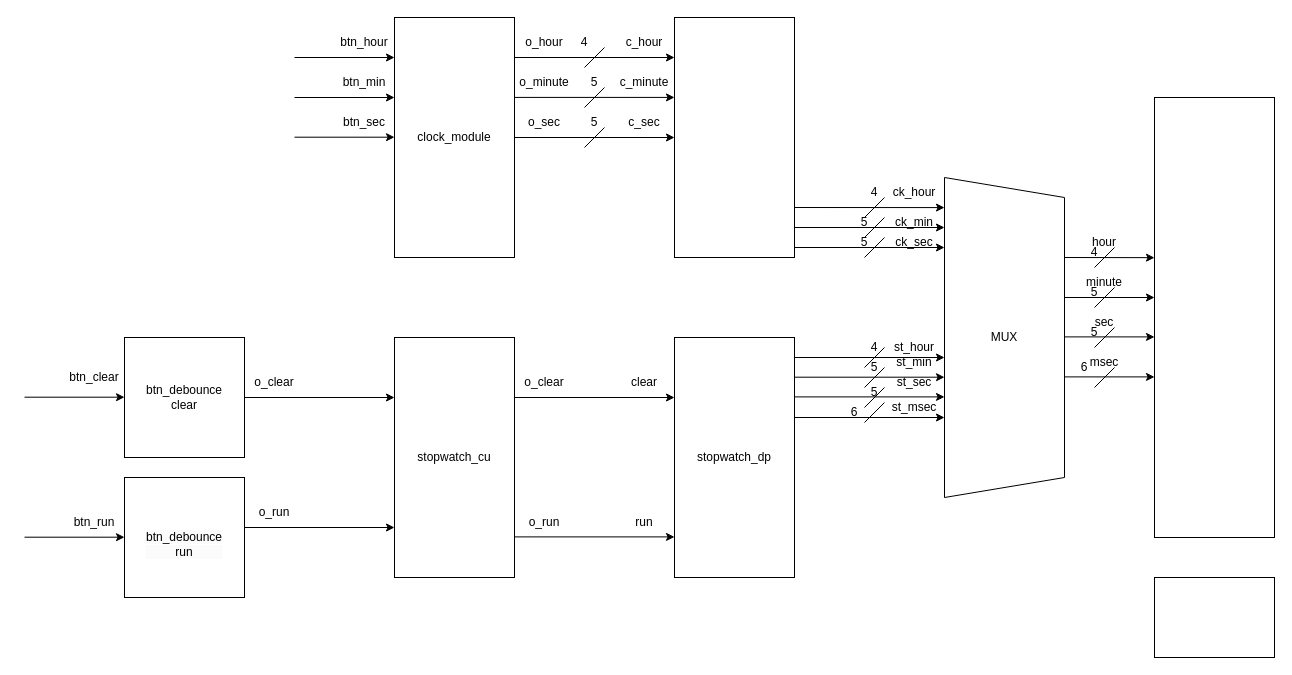
Image size: 1292x675. Some labels were removed from this diagram. Each missing label, with the centre of its shape:
"clock_cu" belongs at point 734,137.
"fnd_controller" belongs at point 1214,317.
"LED_indicator" belongs at point 1214,617.
